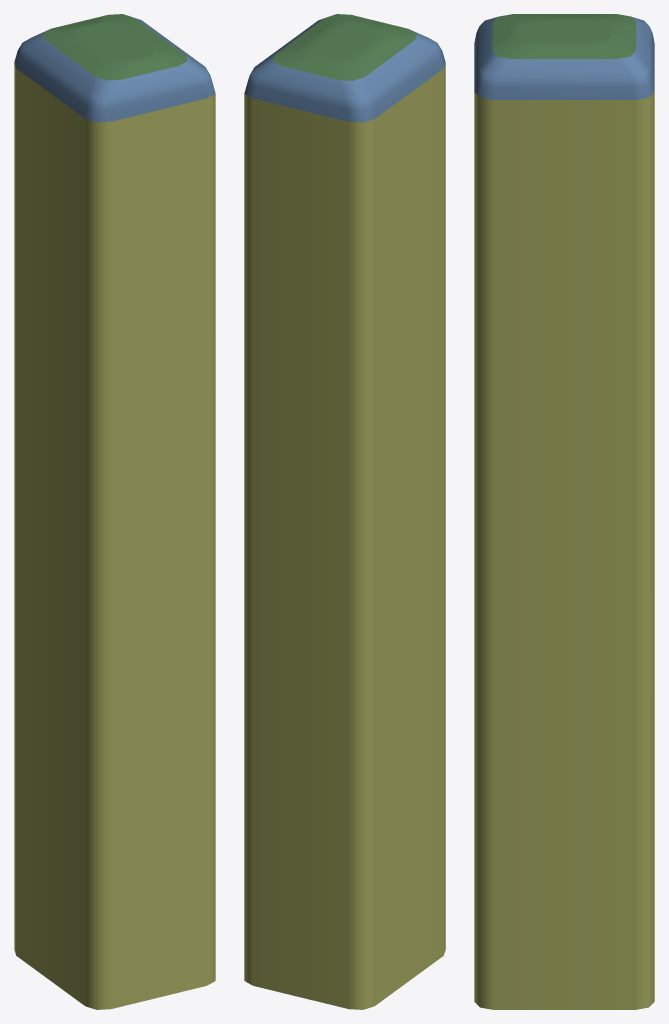
Rendered from Primer_PLat.fbx.
3 renders of one model, left to right at view 1: azimuth 30°, elevation 25°; view 2: azimuth 150°, elevation 25°; view 3: azimuth 270°, elevation 25°, orthographic. The views are drawn at different scales.
Visible parts, largest first — view 1: Primer_Plat, Wall1, Ground1; view 2: Primer_Plat, Wall1, Ground1; view 3: Primer_Plat, Wall1, Ground1.
Part boxes in pixels (x1=…): Primer_Plat: x1=14, y1=63, x2=215, y2=1009; Wall1: x1=14, y1=18, x2=215, y2=122; Ground1: x1=42, y1=14, x2=187, y2=80; Primer_Plat: x1=244, y1=63, x2=445, y2=1009; Wall1: x1=244, y1=18, x2=445, y2=122; Ground1: x1=273, y1=14, x2=416, y2=80; Primer_Plat: x1=474, y1=92, x2=654, y2=1009; Wall1: x1=474, y1=16, x2=654, y2=99; Ground1: x1=492, y1=14, x2=636, y2=58.
Bounding box in the file's own units: 2075 × 14239 × 2460.
